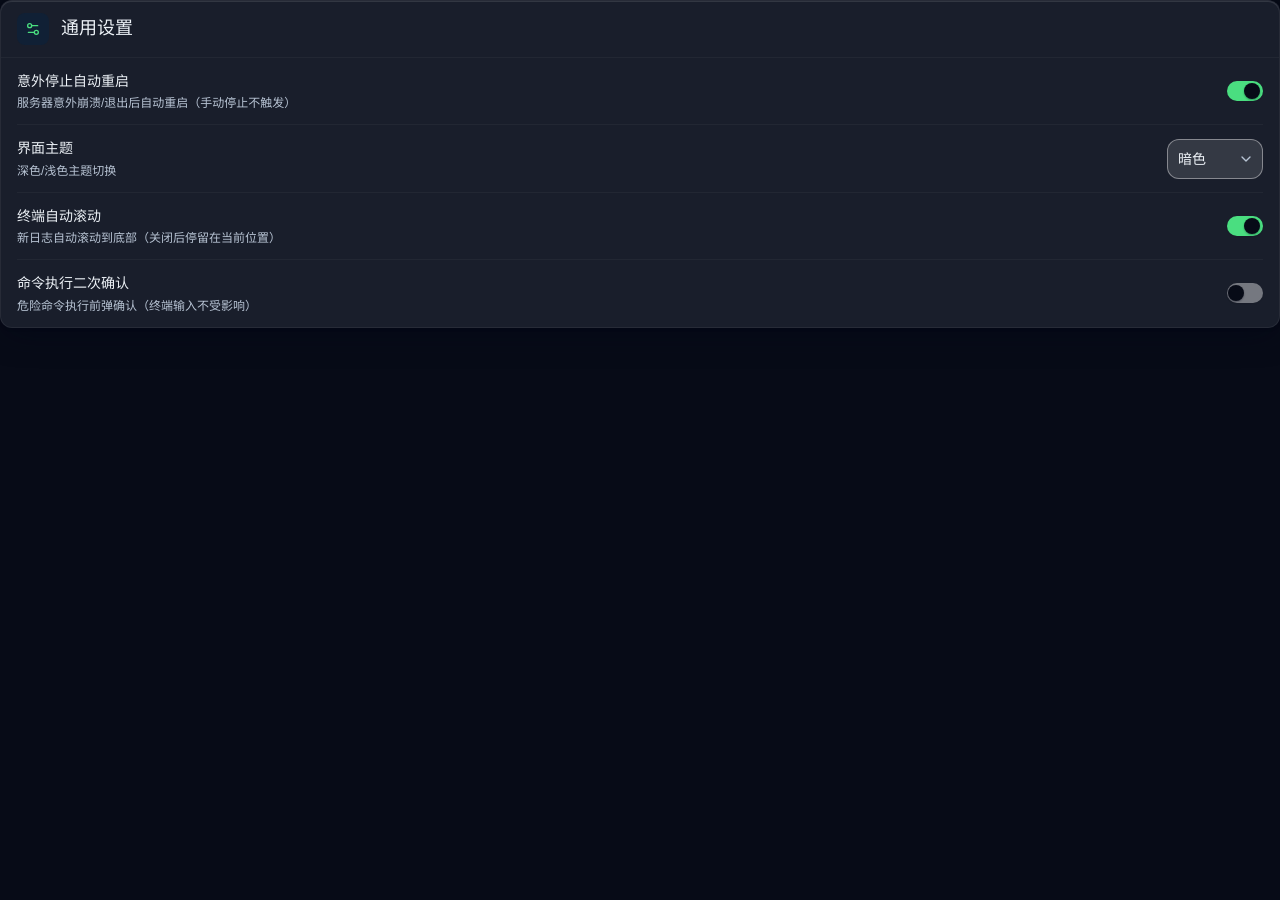
Test case: GeneralPanel autoRestart 切换 › 切换失败：错误 toast + 回滚到服务端值
This screenshot has width=1280, height=900.
Click the switch named "意外停止自动重启" at point(1245, 91), box [1227,81,1263,101]
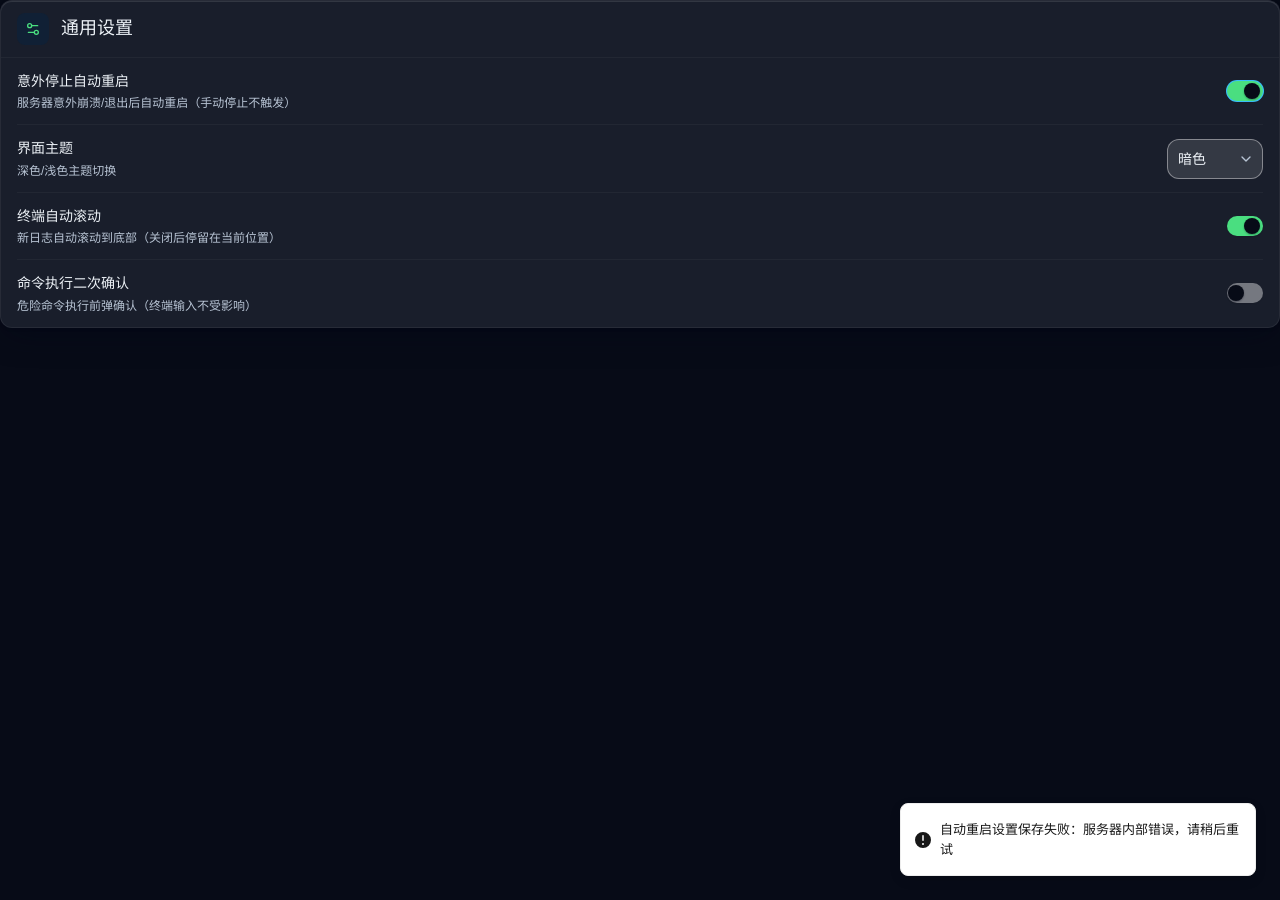
expect the text "自动重启设置保存失败：服务器内部错误，请稍后重试" is shown: met, box [940,820,1239,859]
